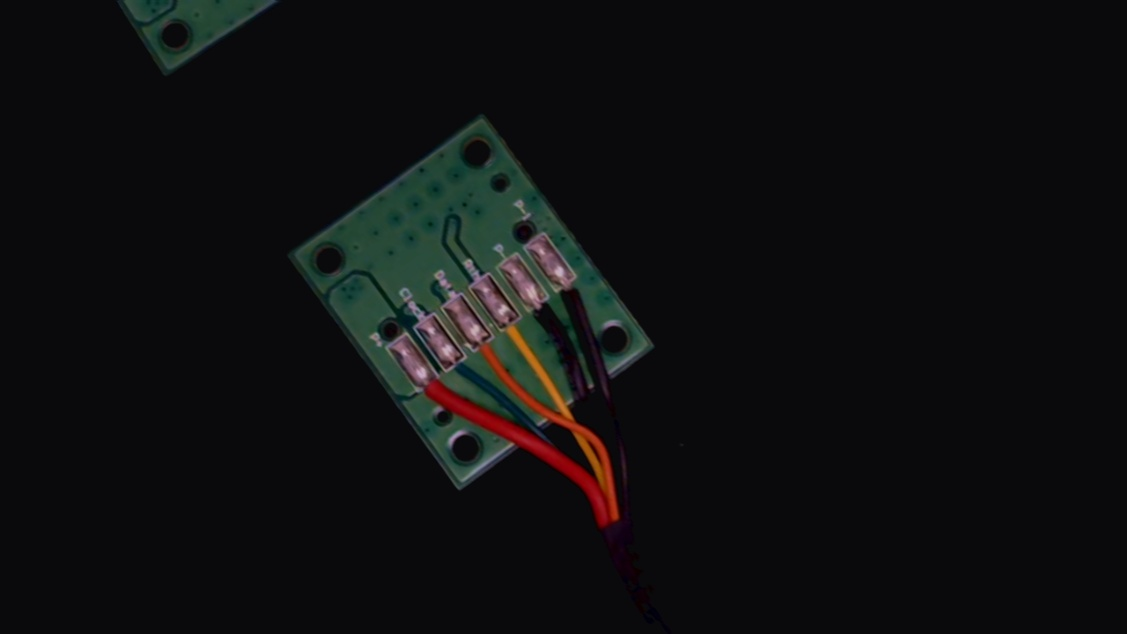Black: (518, 285, 567, 340)
Black1: (546, 266, 598, 325)
Green: (433, 341, 486, 401)
Orange: (461, 323, 516, 386)
Red: (405, 361, 456, 417)
Yellow: (490, 304, 542, 364)
